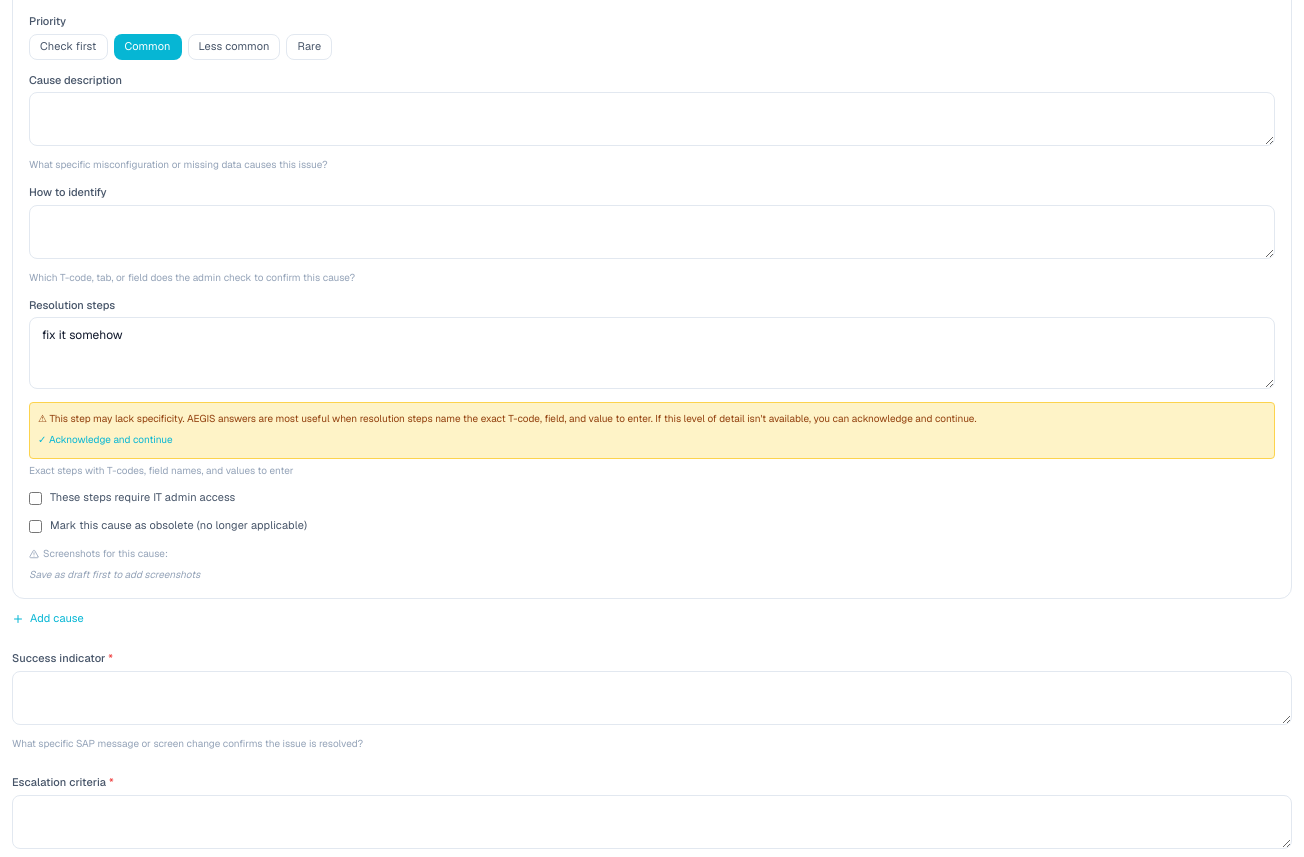
Test case: ErrorGuideFormFields › shows a specificity warning for vague resolution steps and clears it on acknowledge
(page scrolled)
Expected: the text "may lack specificity" is shown, [38,412,976,425]
Step 1. Click the button "✓ Acknowledge and continue" → click(105, 440), box [38,432,173,447]
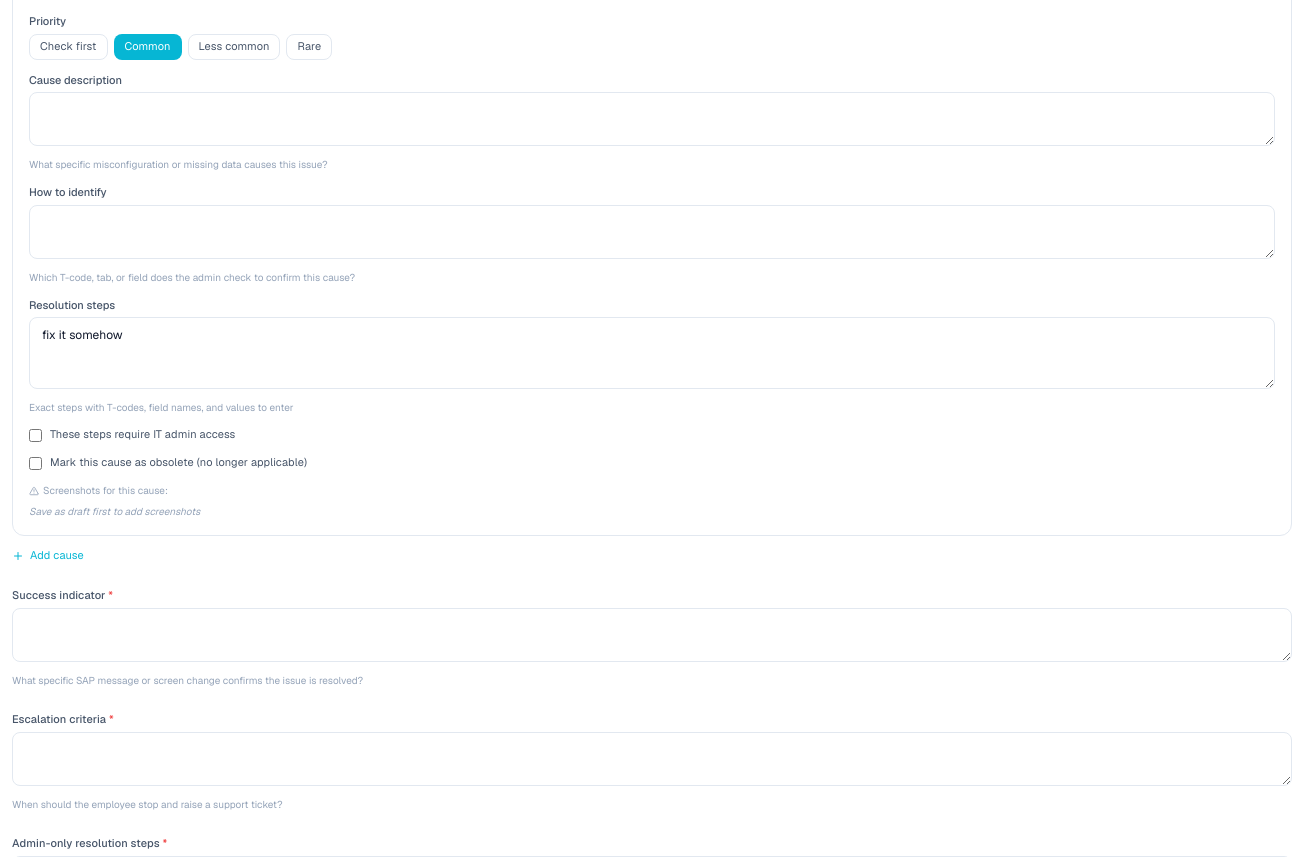
Expected: the text "may lack specificity" is gone
